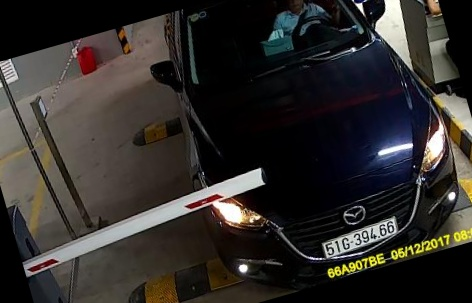plate: (320, 215, 399, 257)
